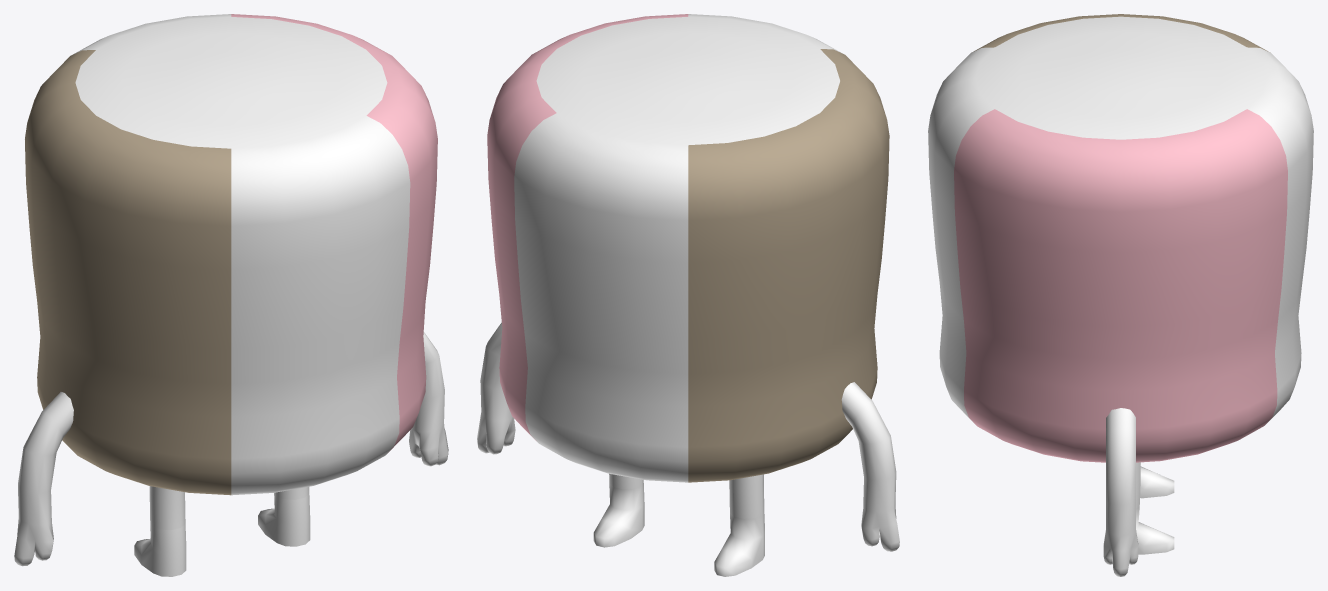
3 views of the same model, side by side, from view 1: azimuth 30°, elevation 25°; view 2: azimuth 150°, elevation 25°; view 3: azimuth 270°, elevation 25° (orthographic). The views are drawn at different scales.
Parts seen in each view (by area): view 1: Leg_1; view 2: Leg_1; view 3: Leg_1.
Part boxes in pixels (x1=…): Leg_1: x1=14, y1=14, x2=448, y2=576; Leg_1: x1=477, y1=14, x2=899, y2=576; Leg_1: x1=928, y1=14, x2=1313, y2=576.
Size of the model in its own units: 24.88 by 26.36 by 20.5.
1 material, 1 textured.
